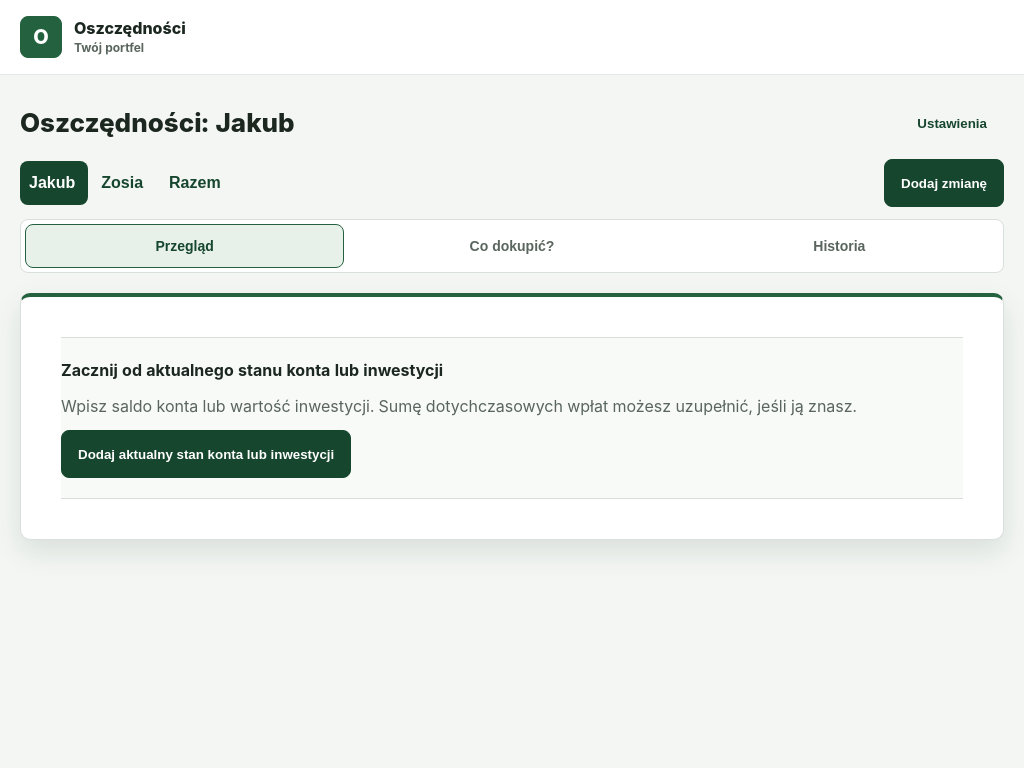
Savings workspace › starts existing savings with INITIAL and allows unknown contributions
Click the button "Dodaj aktualny stan konta lub inwestycji". click: click(206, 454)
box: [61,430,351,478]
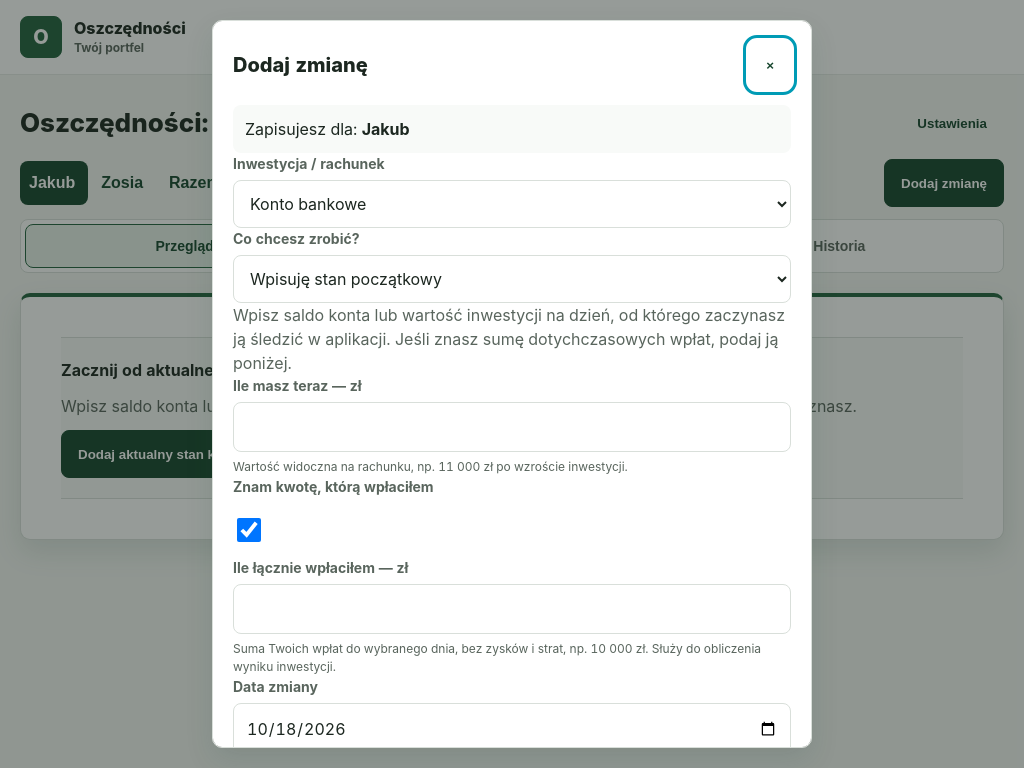
Expected: the dropdown labelled "Co chcesz zrobić?" shows "Wpisuję stan początkowy", [233,255,791,303]
Expected: the number field labelled "Ile masz teraz — zł" is shown, [233,402,791,452]
Click the checkbox labelled "Znam kwotę, którą wpłaciłem". click: click(249, 530)
box: [237,506,261,554]
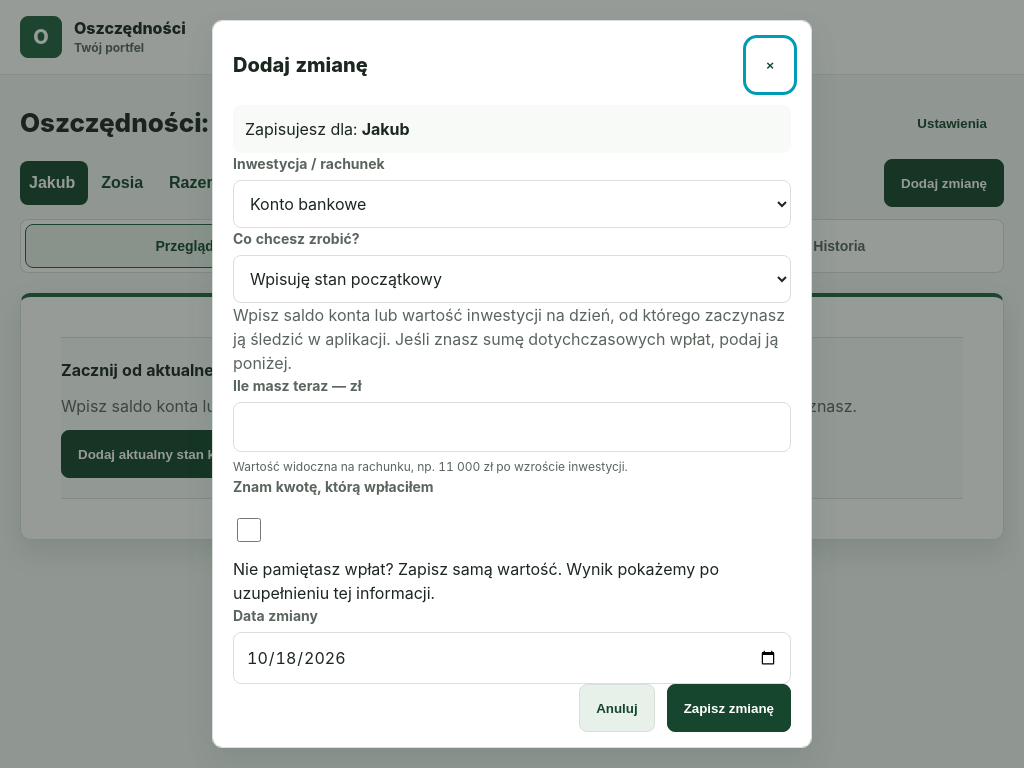
Expected: the label labelled "Ile łącznie wpłaciłem — zł" is gone
Expected: the text "Nie pamiętasz wpłat" is shown, [233,559,719,603]
